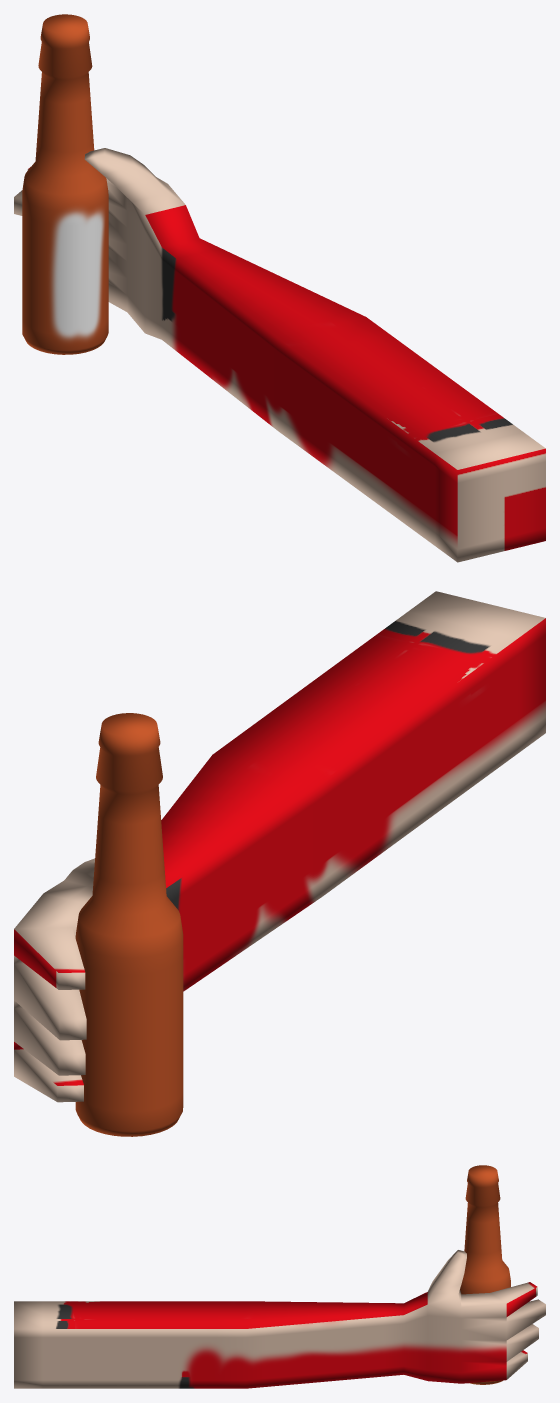
Rendered from ArmBeer.fbx.
The picture shows the model from 3 angles, top to bottom: view 1: azimuth 30°, elevation 25°; view 2: azimuth 150°, elevation 25°; view 3: azimuth 270°, elevation 25°; orthographic projection. The views are drawn at different scales.
Parts seen in each view (by area): view 1: Arm, Beer; view 2: Arm, Beer; view 3: Arm, Beer.
Boxes of the visible parts, x1,y1,x2,y2 form: Arm: (14, 148, 545, 562); Beer: (22, 14, 108, 354); Arm: (14, 591, 545, 1102); Beer: (75, 713, 183, 1136); Arm: (14, 1250, 545, 1388); Beer: (460, 1165, 510, 1384).
Bounding box in the file's own units: 116 × 224 × 533.
